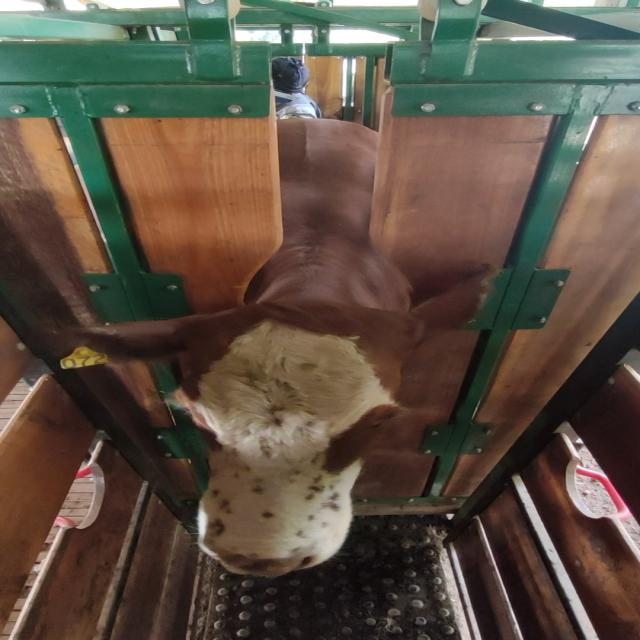cowFace: (169, 302, 394, 575)
